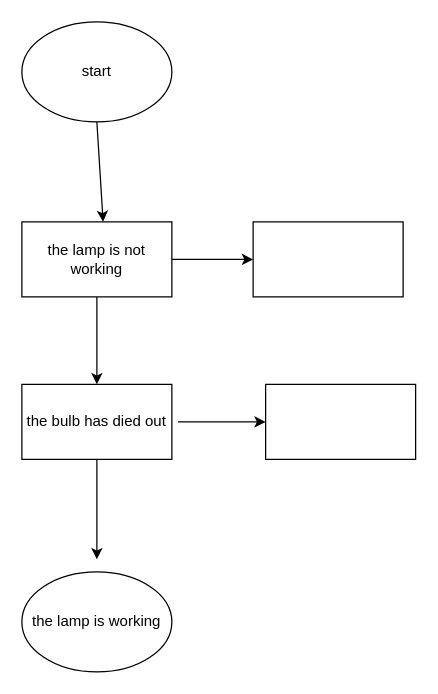
The diagram is 438 pixels wide and 694 high, and some of its shapes have lost their labels. Here are the shapes that lost their labels. From the top down, the centre of each, then its label:
At [327,259]: "plug the lamp in".
At [340,421]: "replace the bulb".
